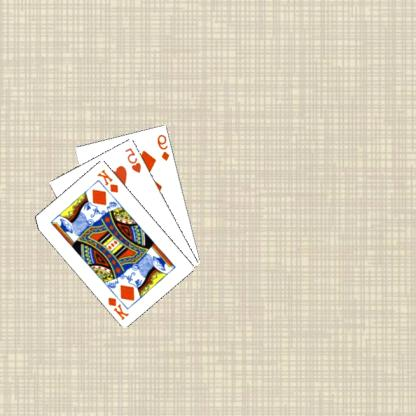5H: (124, 145, 144, 174)
9D: (156, 131, 173, 162)
KD: (96, 166, 122, 194), (107, 294, 132, 321)
